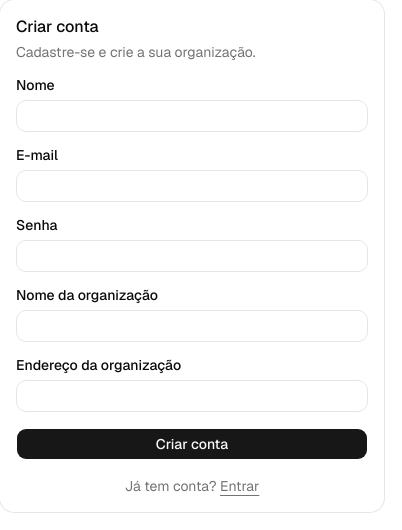
Test case: RegisterForm › disables the button with the pending label while submitting
Type "Ana Souza" into the field labelled "Nome" at (192, 116), box x1=16 y1=100 x2=368 y2=132
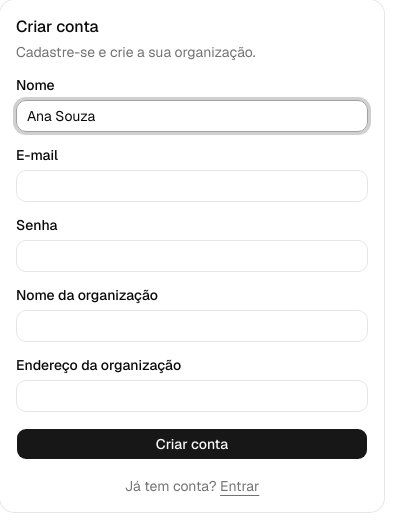
Type "ana@example.com" into the field labelled "E-mail" at (192, 186), box x1=16 y1=170 x2=368 y2=202
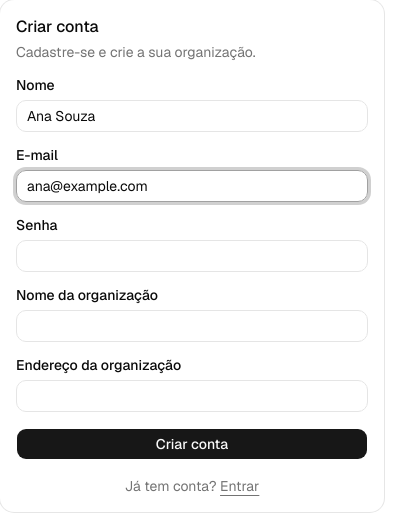
Type "segredo-longo-123" into the password field labelled "Senha" at (192, 256), box x1=16 y1=240 x2=368 y2=272
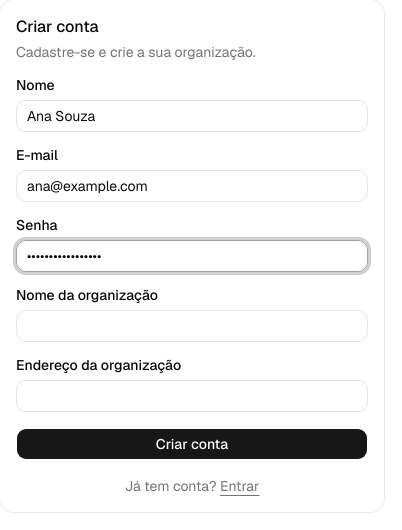
Type "Ação & Cia. Ltda" into the field labelled "Nome da organização" at (192, 326), box x1=16 y1=310 x2=368 y2=342
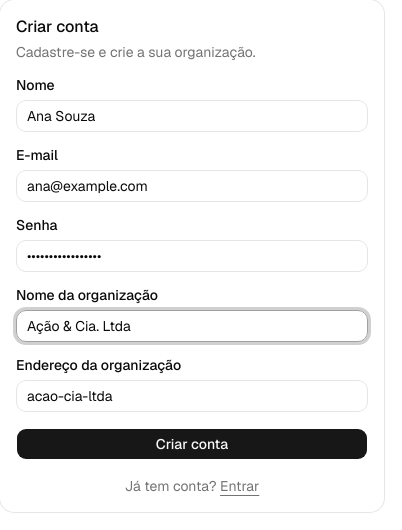
Click the button "Criar conta" at (192, 444), box x1=16 y1=428 x2=368 y2=460
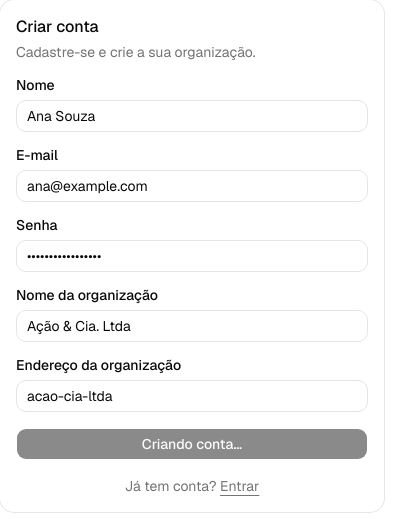
Now the button "Criando conta…" is disabled, box x1=16 y1=428 x2=368 y2=460
